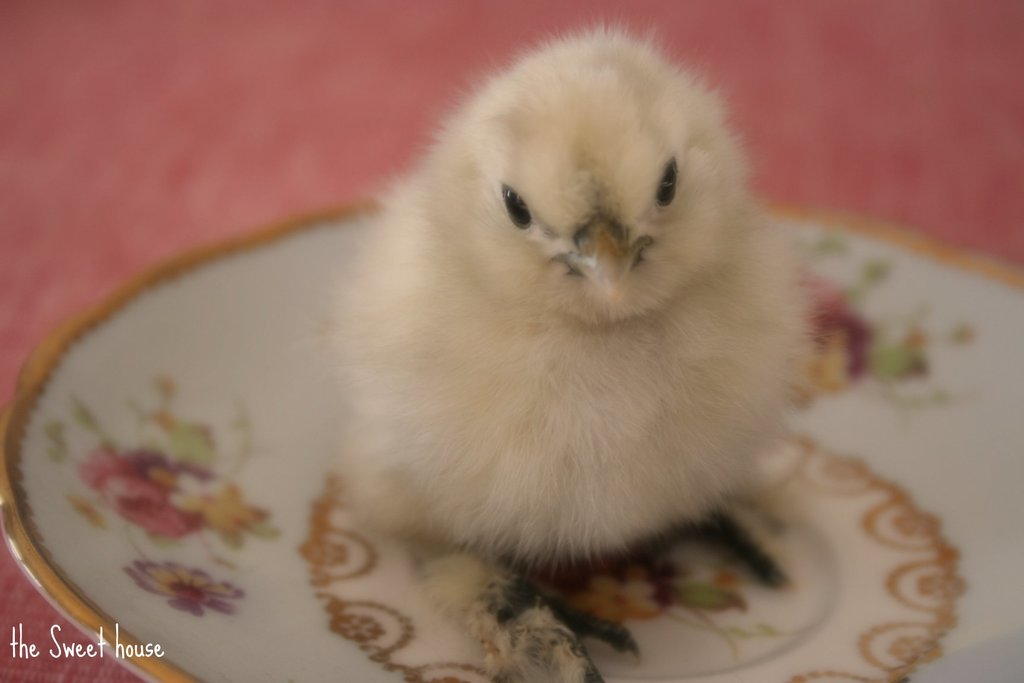plate: (0, 196, 1023, 682)
